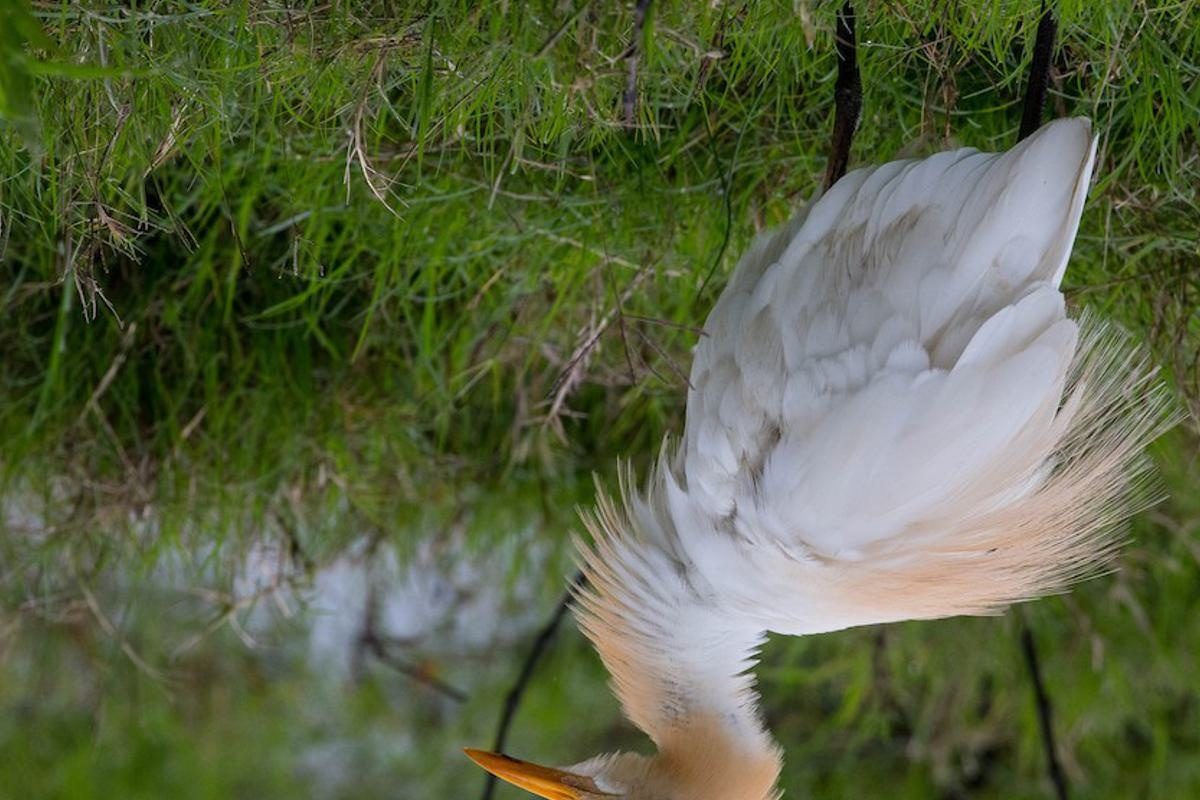egret: (461, 46, 1166, 798)
